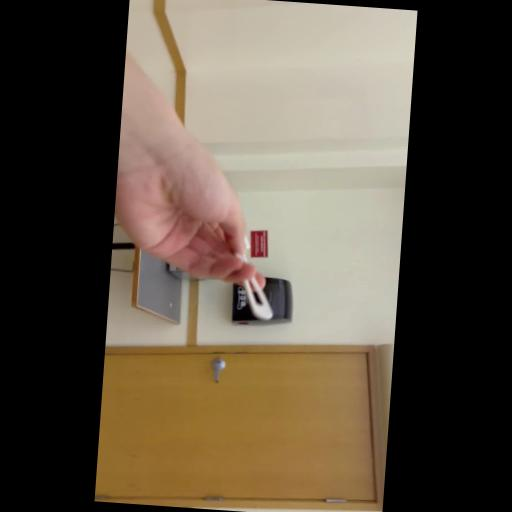utensil: (211, 227, 280, 324)
